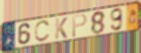6: (17, 23, 31, 46)
8: (91, 10, 106, 35)
9: (109, 7, 125, 33)
C: (34, 19, 52, 44)
K: (54, 16, 69, 40)
P: (72, 13, 89, 39)
